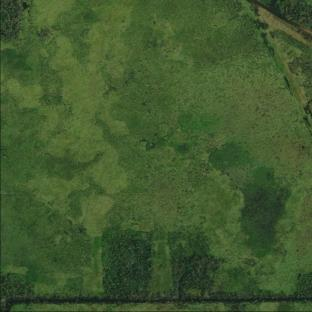Floresta: (103, 229, 152, 298), (169, 234, 218, 297), (275, 0, 312, 29), (0, 271, 34, 299), (296, 271, 312, 296)
